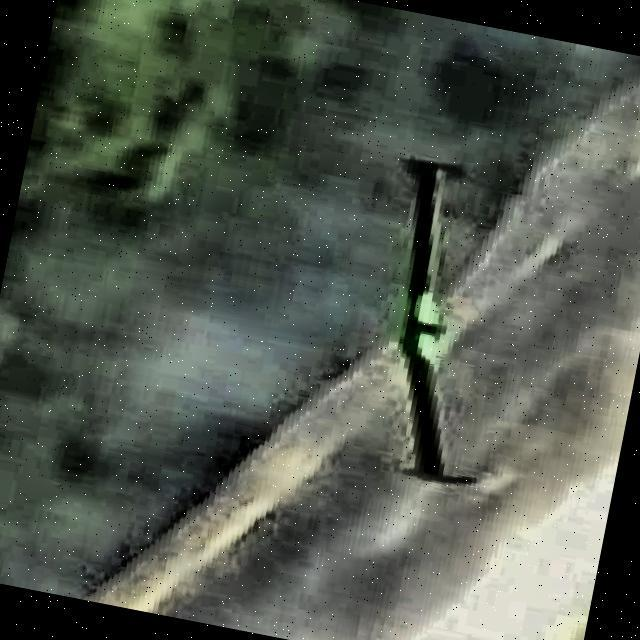iha: (330, 146, 538, 499)
